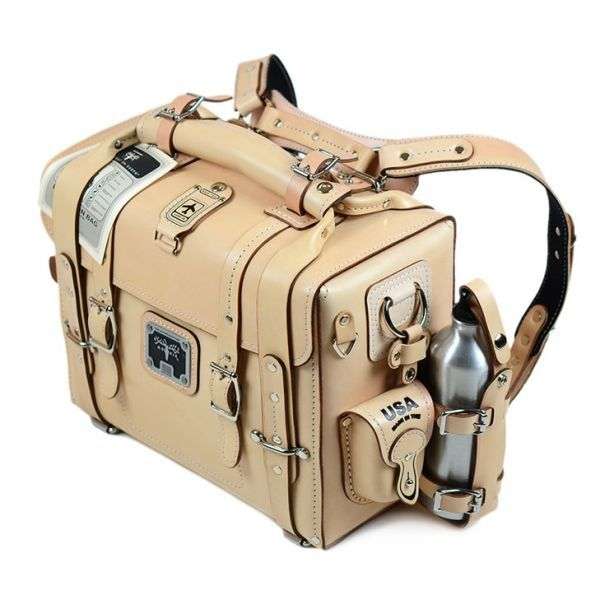cuero: (36, 54, 575, 552)
